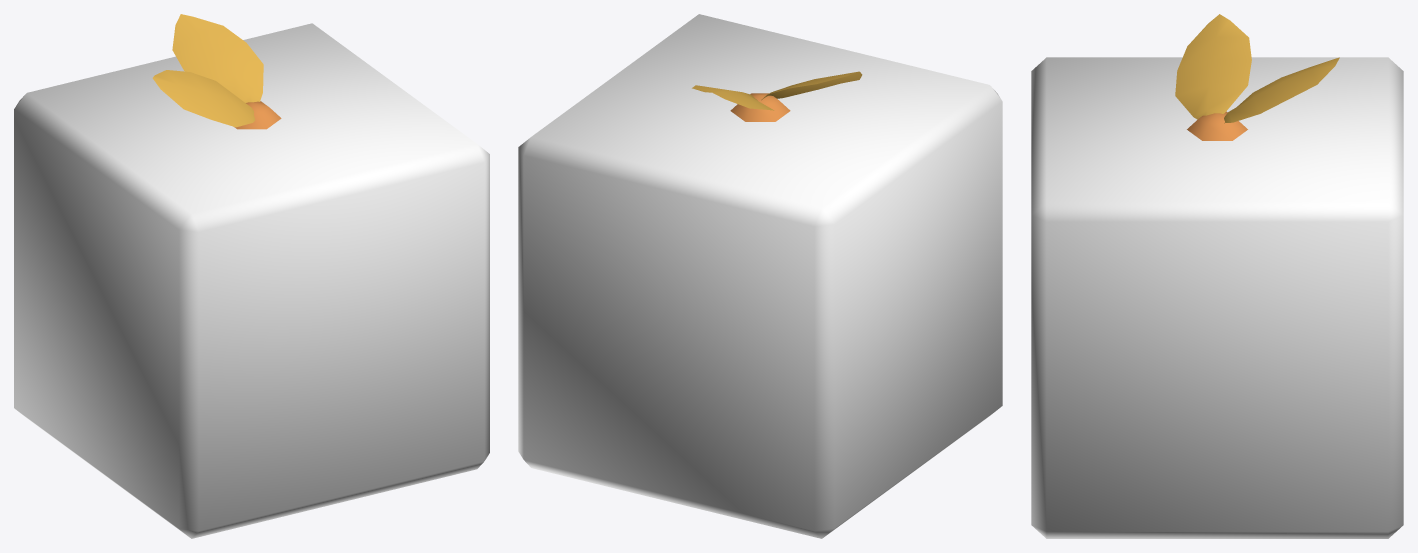
Rendered from White_Berry_Item_Prop.fbx.
The picture shows the model from 3 angles, left to right: view 1: azimuth 30°, elevation 25°; view 2: azimuth 150°, elevation 25°; view 3: azimuth 270°, elevation 25°; orthographic projection. The views are drawn at different scales.
Visible parts, largest first — view 1: White_Berry; view 2: White_Berry; view 3: White_Berry.
Part boxes in pixels (bbox=[...]): White_Berry: bbox=[14, 14, 489, 538]; White_Berry: bbox=[518, 14, 1002, 538]; White_Berry: bbox=[1031, 14, 1403, 538].
Size of the model in its own units: 200 by 239 by 200.
